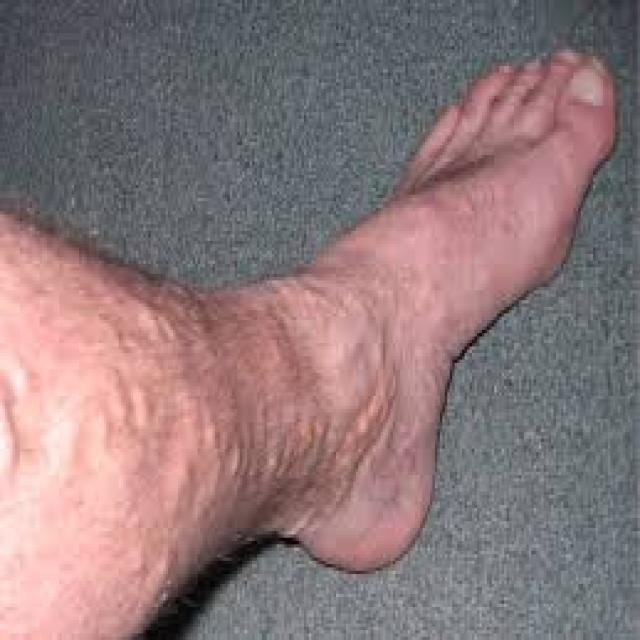Varicose: (148, 234, 470, 581)
